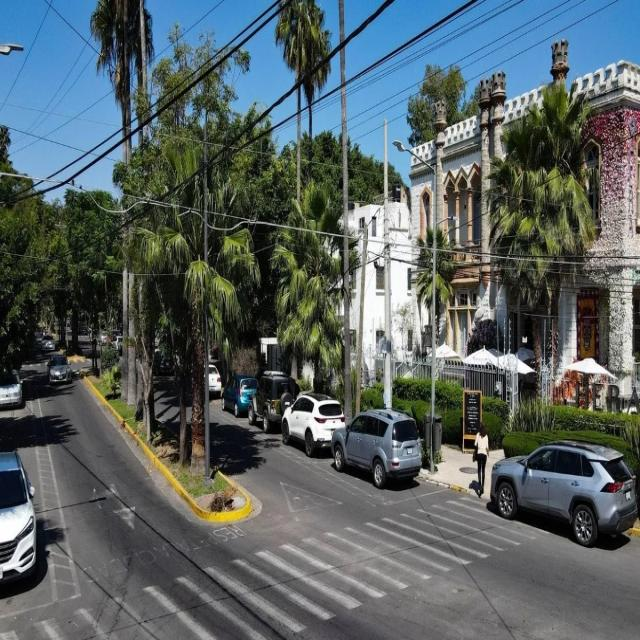libre: (1, 401, 31, 443)
ocupado: (482, 430, 638, 550), (325, 400, 430, 498), (0, 444, 46, 597), (277, 384, 348, 455), (248, 369, 300, 434), (216, 372, 261, 417), (0, 361, 25, 414)
